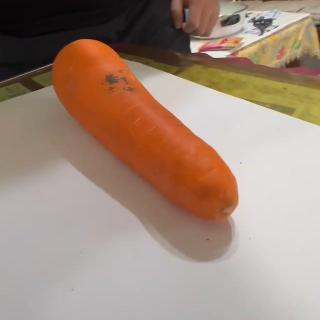carrot: (50, 37, 246, 223)
